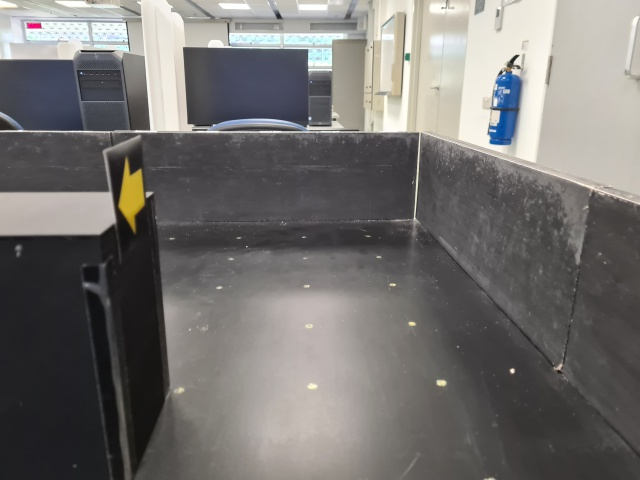right_arrow: (102, 134, 152, 264)
